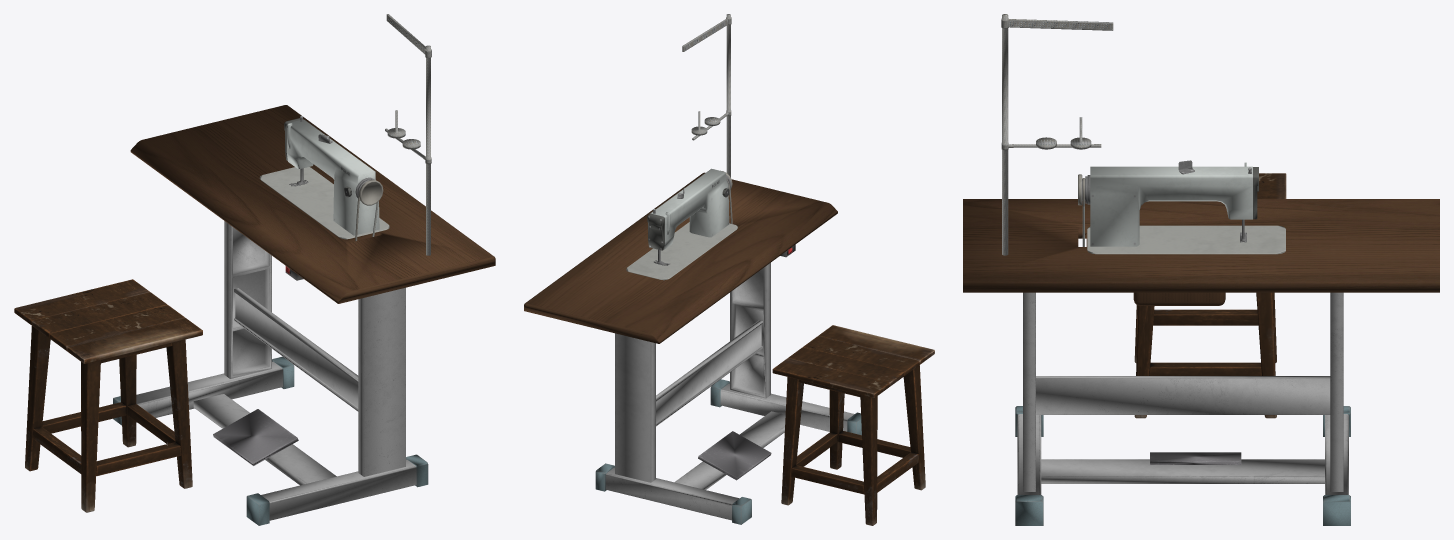
Rendered from SewingMachine.glb.
The picture shows the model from 3 angles, left to right: view 1: azimuth 30°, elevation 25°; view 2: azimuth 150°, elevation 25°; view 3: azimuth 270°, elevation 25°; orthographic projection. The views are drawn at different scales.
Visible parts, largest first — view 1: dikis_makinesi_kayis, Object_2; view 2: dikis_makinesi_kayis, Object_2; view 3: dikis_makinesi_kayis, Object_2.
Part boxes in pixels (box(x1,y1,x2,y2)): dikis_makinesi_kayis: box(113, 14, 495, 525); Object_2: box(14, 279, 202, 512); dikis_makinesi_kayis: box(524, 14, 861, 524); Object_2: box(772, 325, 934, 525); dikis_makinesi_kayis: box(963, 14, 1439, 525); Object_2: box(1134, 173, 1286, 418).
Bounding box in the file's own units: 5.96 × 7.39 × 6.29.
Materials: 4 (4 with a texture image).
